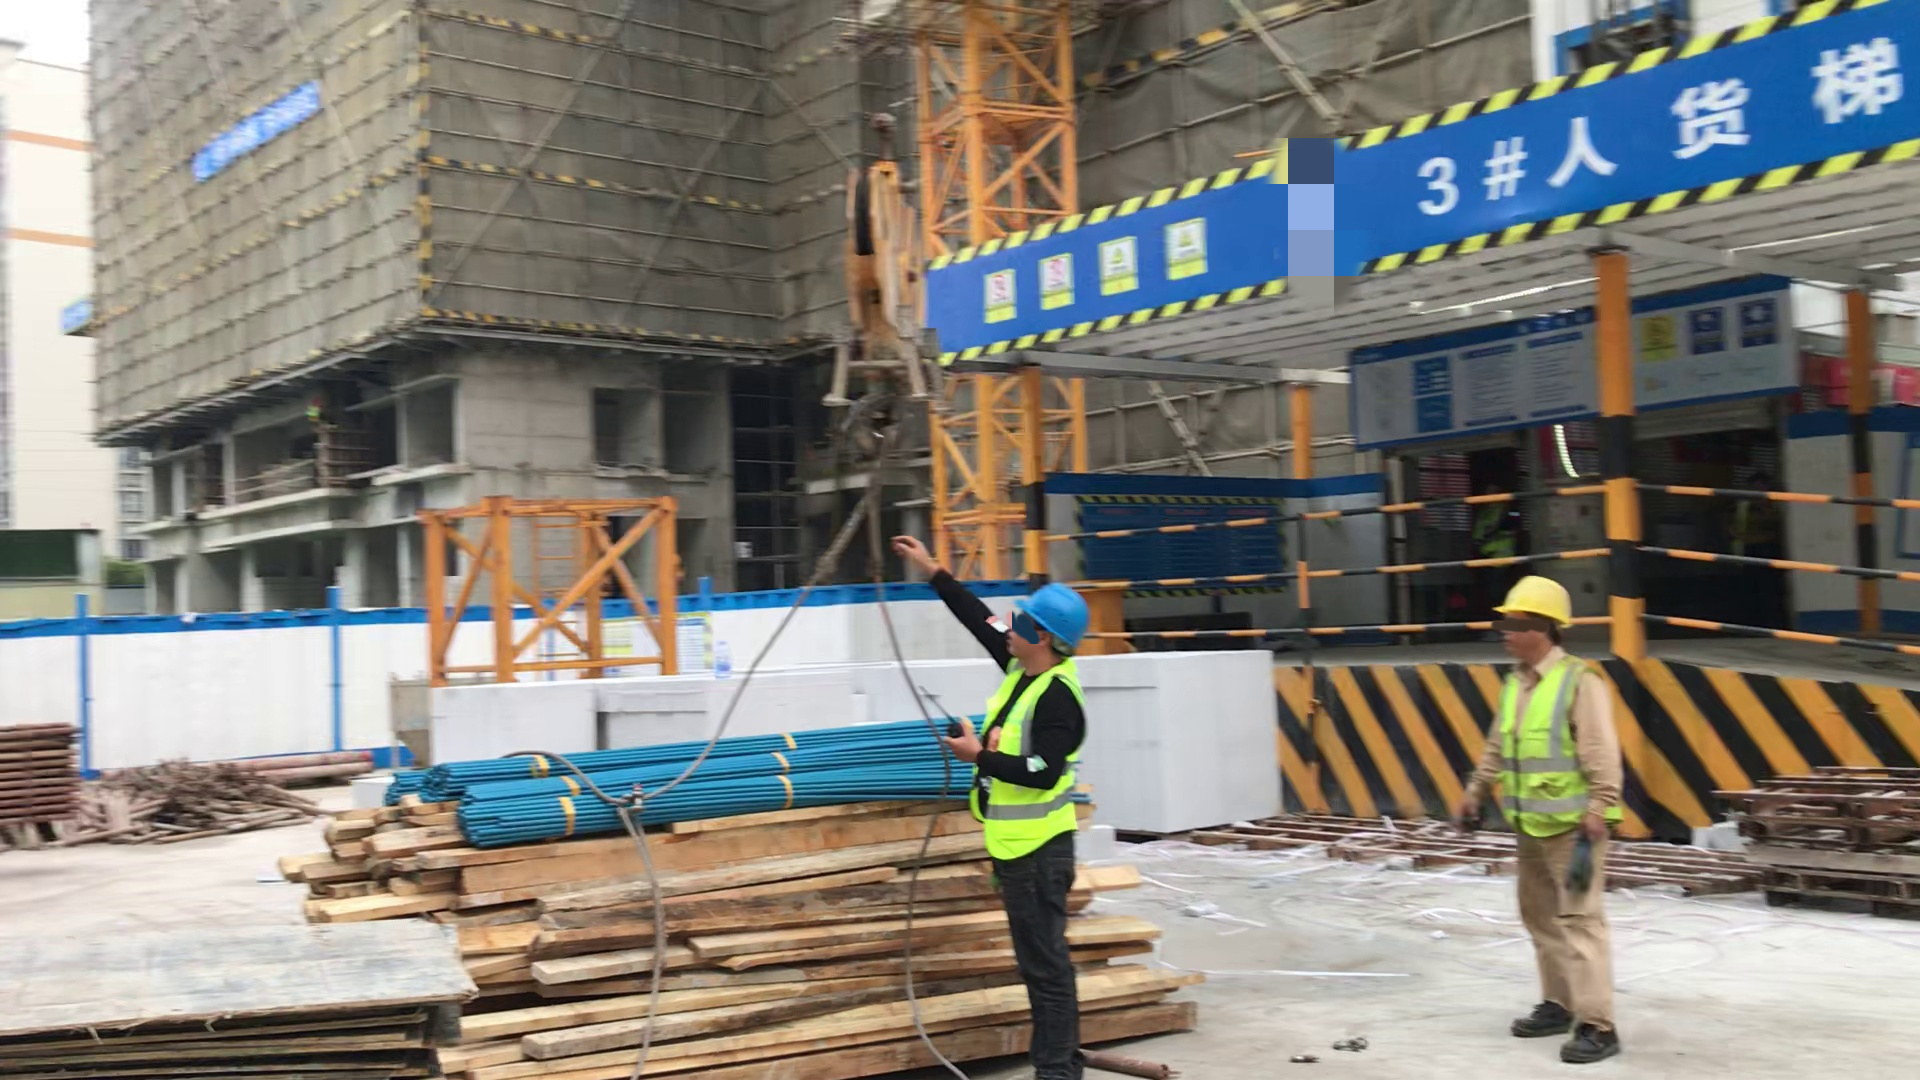board: (1, 927, 469, 1080)
brick: (1085, 656, 1271, 835), (631, 673, 988, 749), (429, 687, 615, 780)
helmet: (1017, 585, 1085, 657), (1496, 577, 1574, 627)
hook: (843, 112, 923, 472)
person: (912, 549, 1086, 1080), (1469, 576, 1623, 1065)
scaffold: (1, 721, 79, 822)
slogan: (965, 216, 1209, 324), (188, 88, 317, 180)
vest: (1493, 664, 1620, 841), (978, 670, 1081, 849)
wood: (308, 799, 1188, 1058)
